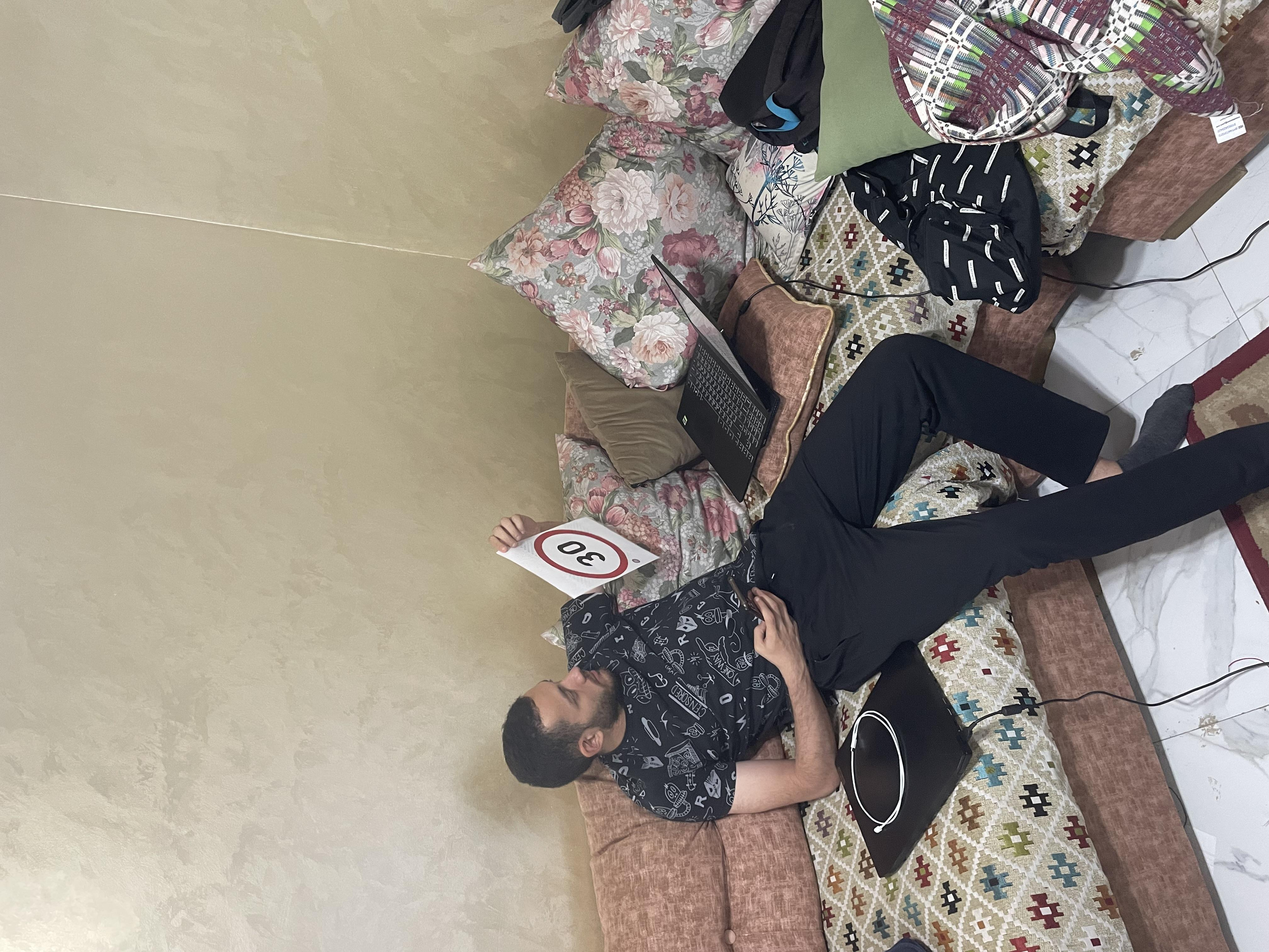30-speed: (492, 400, 596, 490)
